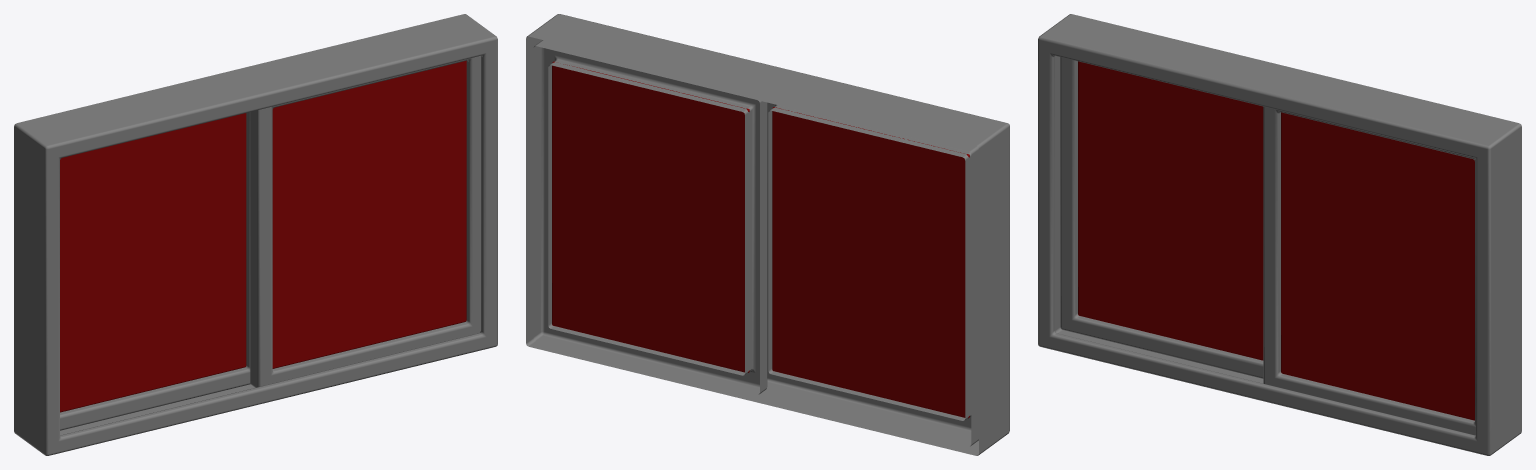
Rendered from SM_window.fbx.
3 renders of one model, left to right at view 1: azimuth 30°, elevation 25°; view 2: azimuth 150°, elevation 25°; view 3: azimuth 330°, elevation 25°, orthographic.
Visible parts, largest first — view 1: window_glass, window; view 2: window_glass, window; view 3: window_glass, window.
Boxes of the visible parts, box(x1,y1,x2,y2) form: window_glass: box(60, 60, 466, 412); window: box(14, 14, 497, 455); window_glass: box(552, 61, 969, 418); window: box(526, 14, 1009, 455); window_glass: box(1078, 61, 1474, 420); window: box(1038, 14, 1521, 455).
Bounding box in the file's own units: 244 × 160 × 30.
